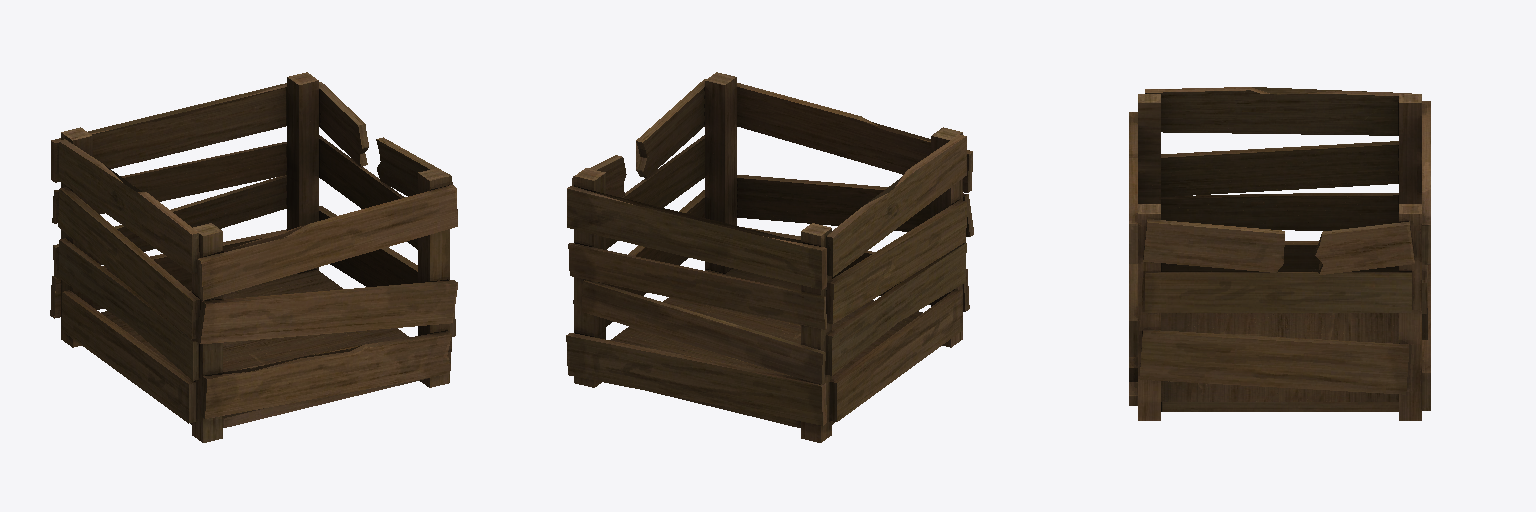
3 views of the same model, side by side, from view 1: azimuth 30°, elevation 25°; view 2: azimuth 150°, elevation 25°; view 3: azimuth 270°, elevation 25° (orthographic).
Parts seen in each view (by area): view 1: Crate03_Cube.002; view 2: Crate03_Cube.002; view 3: Crate03_Cube.002.
Boxes of the visible parts, x1=… form: Crate03_Cube.002: x1=50, y1=72, x2=457, y2=442; Crate03_Cube.002: x1=566, y1=72, x2=973, y2=442; Crate03_Cube.002: x1=1129, y1=87, x2=1430, y2=420.
Bounding box in the file's own units: 0.9282 × 0.7099 × 0.9232.
1 materials, 1 textured.